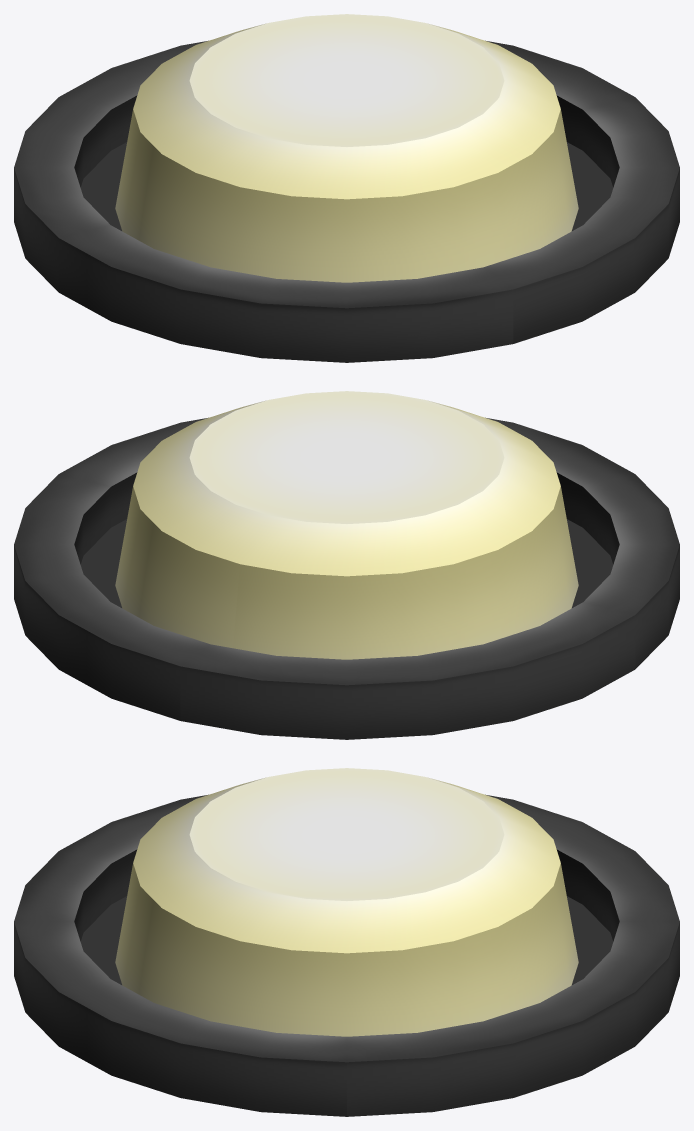
File: Light2.FBX
3 renders of one model, top to bottom at view 1: azimuth 30°, elevation 25°; view 2: azimuth 150°, elevation 25°; view 3: azimuth 270°, elevation 25°, orthographic.
Visible parts, largest first — view 1: Cylinder016; view 2: Cylinder016; view 3: Cylinder016.
Boxes of the visible parts, x1,y1,x2,y2 form: Cylinder016: (14, 14, 679, 362); Cylinder016: (14, 391, 679, 739); Cylinder016: (14, 768, 679, 1116).
Size of the model in its own units: 4.59 by 1.08 by 4.59.
Materials: 1 (1 with a texture image).
